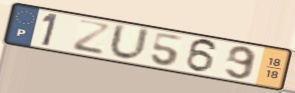1: (39, 12, 60, 49)
5: (149, 30, 183, 68)
6: (185, 38, 223, 74)
9: (224, 45, 259, 80)
U: (107, 22, 152, 63)
Z: (70, 18, 113, 57)
